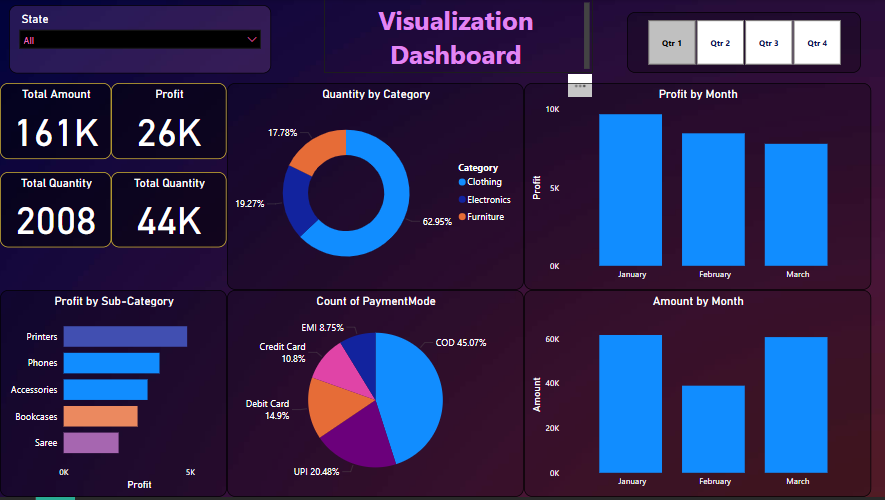

The page's visual inventory and layout, read from the dashboard file:
{"tool":"powerbi","page":{"name":"Page 1","canvas":[1280,720],"ordinal":0},"visuals":[{"type":"textbox","box":[468.4,0,388.9,107],"z":0},{"type":"columnChart","title":"Profit by Month","fields":{"Category":["Orders.Order Date.Variation.Date Hierarchy.Month"],"Y":["Sum(Details.Profit)"]},"box":[757.6,121.4,501.7,299.3],"z":1000},{"type":"columnChart","title":"Amount by Month","fields":{"Category":["Orders.Order Date.Variation.Date Hierarchy.Month"],"Y":["Sum(Details.Amount)"]},"box":[757.6,420.7,501.7,299.3],"z":1001},{"type":"barChart","title":"Profit by Sub-Category","fields":{"Category":["Details.Sub-Category"],"Y":["Sum(Details.Profit)"]},"box":[0,420.7,328.2,299.3],"z":1002},{"type":"donutChart","title":"Quantity by Category","fields":{"Y":["Sum(Details.Quantity)"],"Category":["Details.Category"]},"box":[328.2,121.4,429.4,299.3],"z":1003},{"type":"card","title":"Total Amount","fields":{"Values":["Sum(Details.Amount)"]},"box":[0,120.9,161.2,110.4],"z":1004},{"type":"card","title":"Profit","fields":{"Values":["Sum(Details.Profit)"]},"box":[161.2,120.9,167.2,110.4],"z":1005},{"type":"pieChart","title":"Count of PaymentMode","fields":{"Category":["Details.PaymentMode"],"Y":["CountNonNull(Details.PaymentMode)"]},"box":[328.2,420.7,429.4,299.3],"z":1006},{"type":"card","title":"Total Quantity","fields":{"Values":["Sum(Details.Quantity)"]},"box":[0,250.7,161.2,109],"z":1007},{"type":"card","title":"Total Quantity","fields":{"Values":["Sum(Details.AoV)"]},"box":[161.2,250.7,167.2,109],"z":1008},{"type":"slicer","fields":{"Values":["Orders.Order Date.Variation.Date Hierarchy.Quarter"]},"box":[906.5,18.8,338.3,88.2],"z":1009},{"type":"slicer","fields":{"Values":["Orders.State"]},"box":[40.3,8.4,310.8,90.7],"z":1010}]}

Visuals, with their boxes in screenshot pixels (x1, y1, x2, y2), scaled from the page's 1280x720 canvas onto the 885x500 screenshot:
textbox: crop(324, 0, 593, 74)
"Profit by Month" columnChart: crop(524, 84, 871, 292)
"Amount by Month" columnChart: crop(524, 292, 871, 499)
"Profit by Sub-Category" barChart: crop(0, 292, 227, 499)
"Quantity by Category" donutChart: crop(227, 84, 524, 292)
"Total Amount" card: crop(0, 84, 111, 161)
"Profit" card: crop(111, 84, 227, 161)
"Count of PaymentMode" pieChart: crop(227, 292, 524, 499)
"Total Quantity" card: crop(0, 174, 111, 250)
"Total Quantity" card: crop(111, 174, 227, 250)
slicer - Orders.Order Date.Variation.Date Hierarchy.Quarter: crop(627, 13, 861, 74)
slicer - Orders.State: crop(28, 6, 243, 69)
